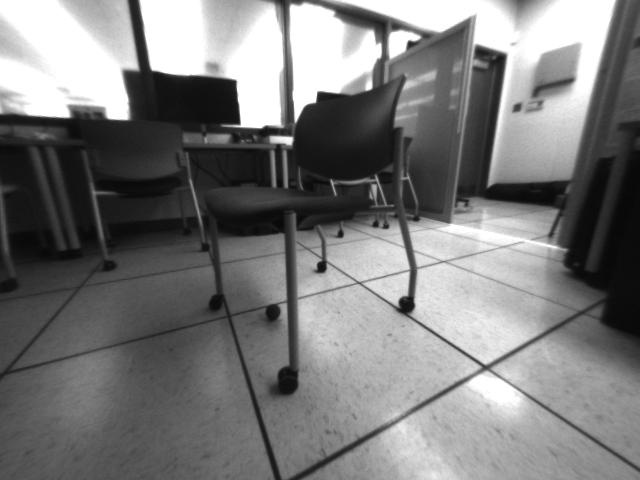dogtoy: (260, 298, 284, 324)
